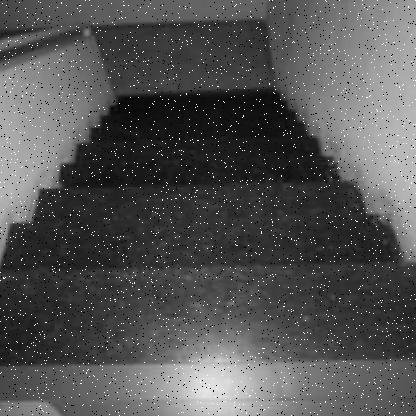stair_down: (0, 152, 400, 309)
